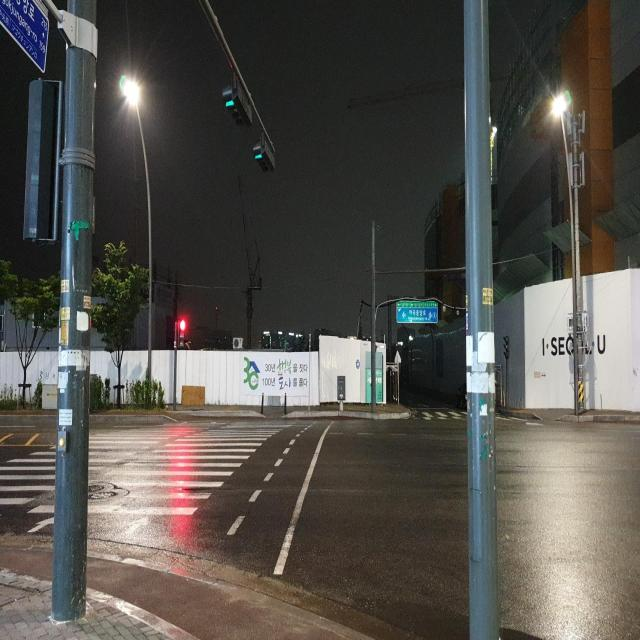빨간불: (177, 316, 188, 347)
횡단보도: (0, 419, 297, 536), (410, 404, 534, 428)
